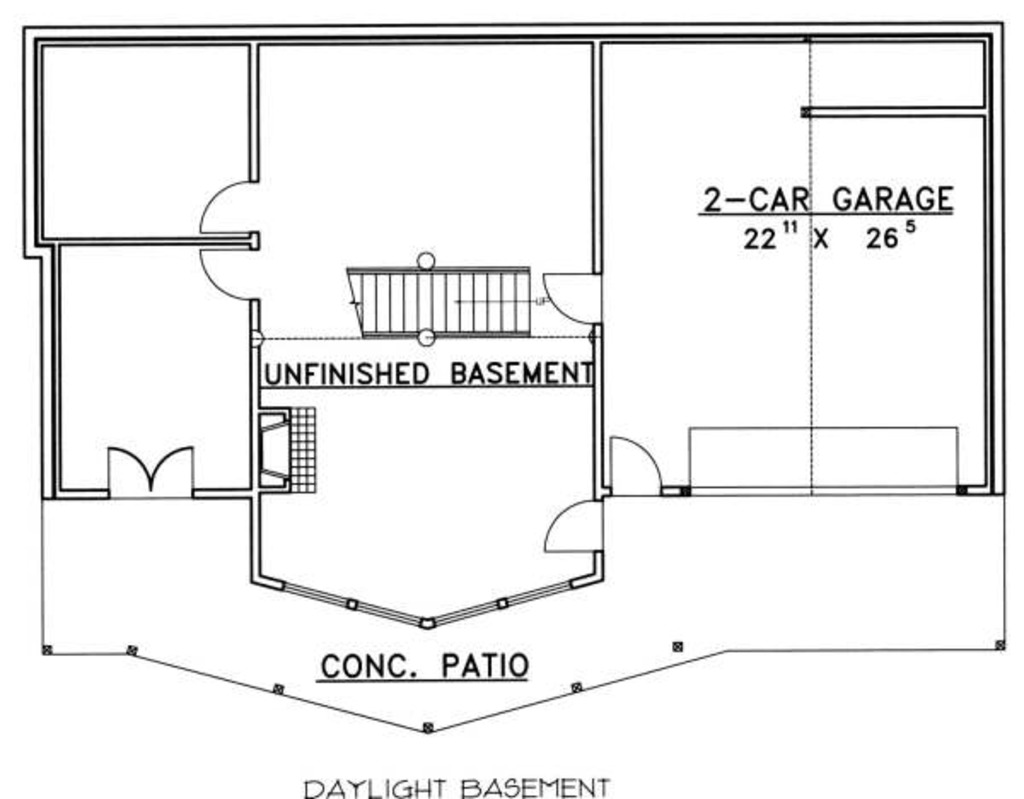door: (90, 412, 205, 501), (187, 167, 270, 237), (544, 269, 628, 333), (529, 499, 609, 561), (601, 422, 665, 498), (191, 244, 265, 304)
stairs: (312, 240, 540, 341)
window: (427, 565, 501, 637), (501, 564, 575, 632), (281, 566, 353, 622), (353, 571, 421, 630)
